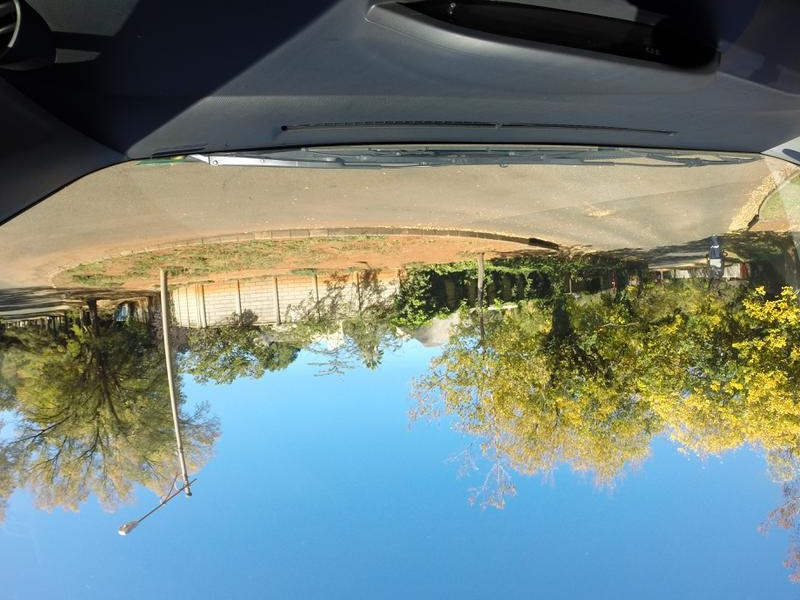pothole: (577, 199, 620, 228)
